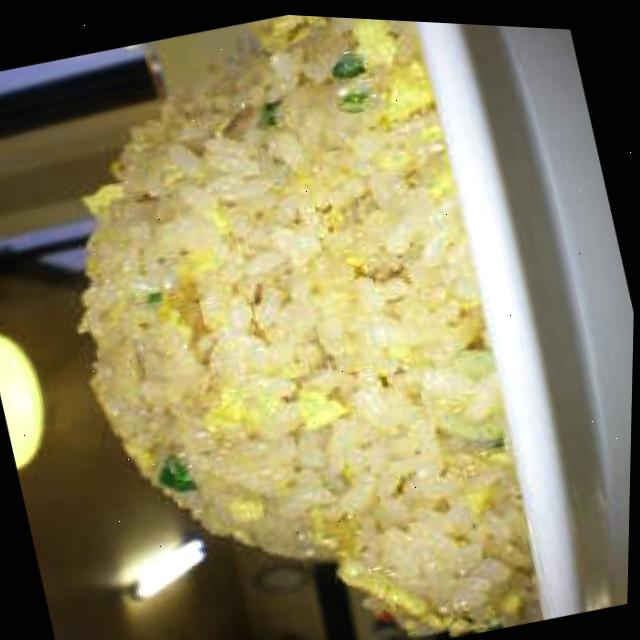米饭主食: (11, 18, 594, 565)
